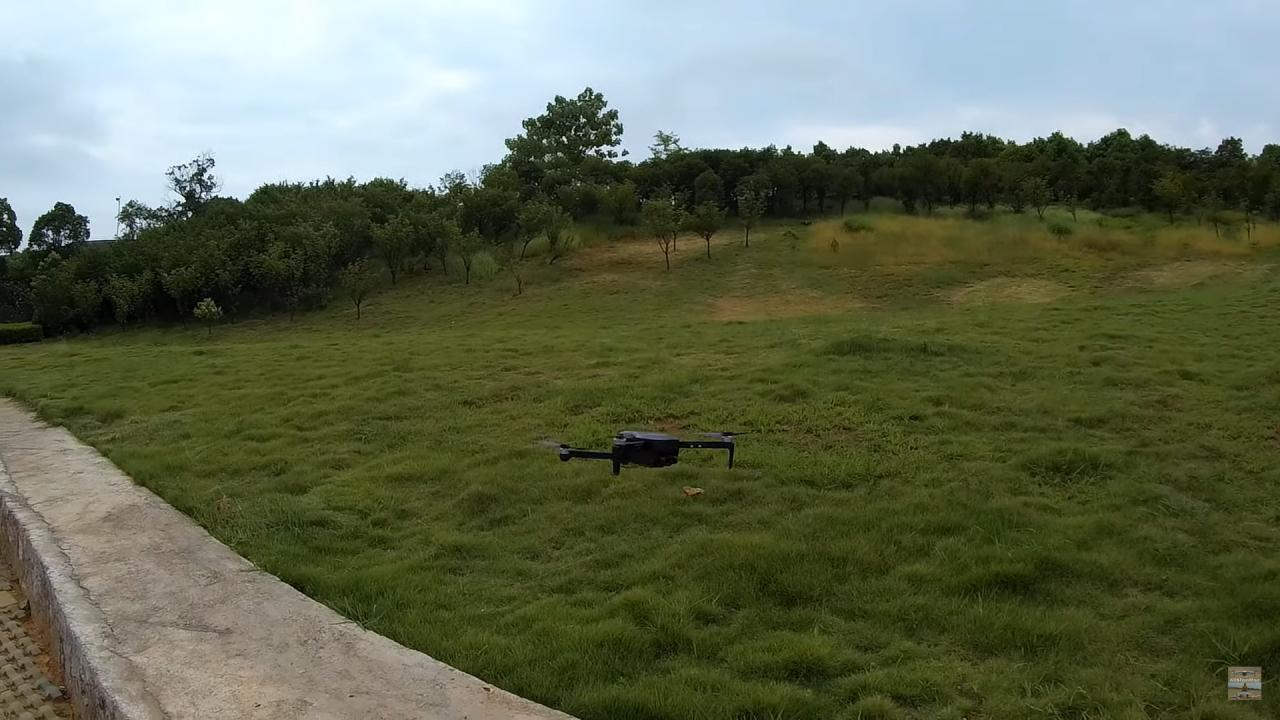Drone: (536, 412, 754, 488)
